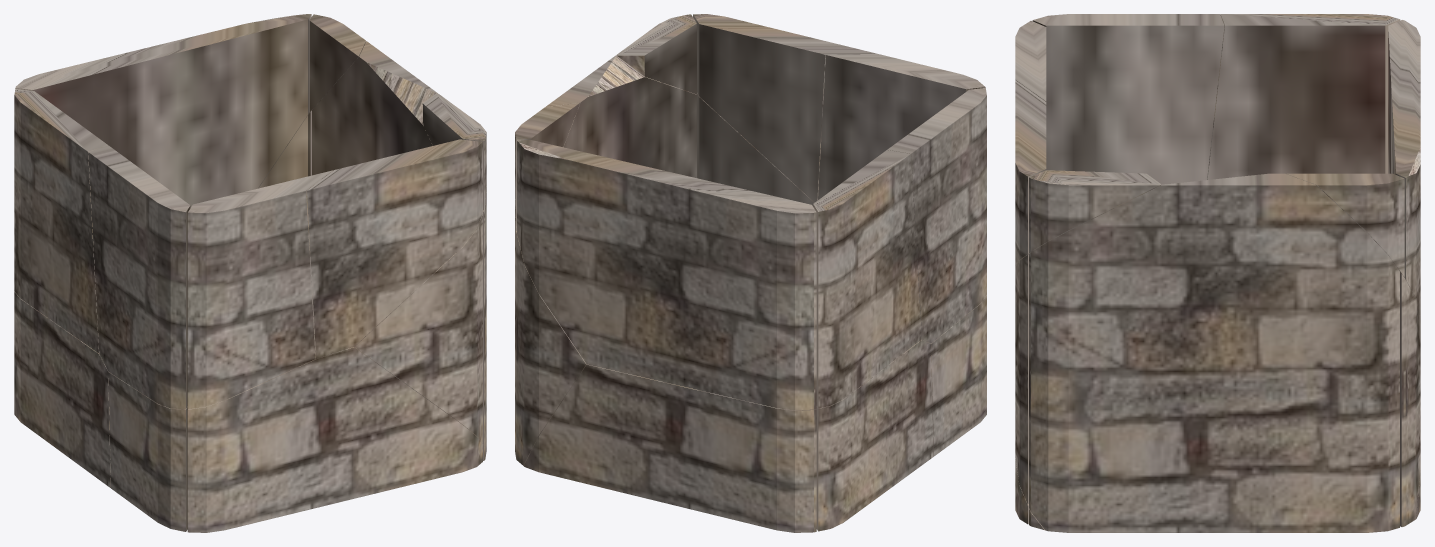
File: Column_F1-rigid.gltf
3 views of the same model, side by side, from view 1: azimuth 30°, elevation 25°; view 2: azimuth 150°, elevation 25°; view 3: azimuth 270°, elevation 25° (orthographic). The views are drawn at different scales.
Parts seen in each view (by area): view 1: Column_F24.004, Column_F24.008, Column_F24.007, Column_F24.002, Column_F24.010, Column_F24.009, Column_F24.013, Column_F24.011, Column_F24.015, Column_F24.012, Column_F24.006, Column_F24.014 (+1 smaller); view 2: Column_F24.008, Column_F24.003, Column_F24.009, Column_F24.007, Column_F24.010, Column_F24.011, Column_F24.002, Column_F24.015, Column_F24.005, Column_F24.012, Column_F24.013, Column_F24.014 (+1 smaller); view 3: Column_F24.015, Column_F24.009, Column_F24.010, Column_F24.008, Column_F24.014, Column_F24.006, Column_F24.005, Column_F24.007, Column_F24.013, Column_F24.002.
Boxes of the visible parts, x1=… form: Column_F24.004: x1=187, y1=347, x2=482, y2=532; Column_F24.008: x1=15, y1=14, x2=311, y2=207; Column_F24.007: x1=307, y1=139, x2=482, y2=358; Column_F24.002: x1=187, y1=170, x2=332, y2=409; Column_F24.010: x1=88, y1=145, x2=190, y2=409; Column_F24.009: x1=14, y1=89, x2=107, y2=353; Column_F24.013: x1=354, y1=214, x2=482, y2=443; Column_F24.011: x1=14, y1=291, x2=110, y2=487; Column_F24.015: x1=312, y1=41, x2=486, y2=452; Column_F24.012: x1=108, y1=372, x2=187, y2=531; Column_F24.006: x1=309, y1=14, x2=365, y2=112; Column_F24.014: x1=422, y1=93, x2=486, y2=210; Column_F24.008: x1=517, y1=139, x2=816, y2=410; Column_F24.003: x1=524, y1=364, x2=816, y2=532; Column_F24.009: x1=813, y1=150, x2=921, y2=408; Column_F24.007: x1=693, y1=14, x2=880, y2=202; Column_F24.010: x1=887, y1=88, x2=986, y2=343; Column_F24.011: x1=816, y1=339, x2=933, y2=531; Column_F24.002: x1=818, y1=54, x2=985, y2=199; Column_F24.015: x1=515, y1=55, x2=696, y2=456; Column_F24.005: x1=516, y1=227, x2=586, y2=465; Column_F24.012: x1=930, y1=295, x2=986, y2=456; Column_F24.013: x1=697, y1=93, x2=814, y2=206; Column_F24.014: x1=616, y1=14, x2=696, y2=94; Column_F24.015: x1=1029, y1=173, x2=1399, y2=532; Column_F24.009: x1=1207, y1=14, x2=1400, y2=179; Column_F24.010: x1=1032, y1=14, x2=1224, y2=184; Column_F24.008: x1=1388, y1=20, x2=1420, y2=316; Column_F24.014: x1=1029, y1=170, x2=1161, y2=252; Column_F24.006: x1=1286, y1=173, x2=1404, y2=276; Column_F24.005: x1=1400, y1=273, x2=1420, y2=526; Column_F24.007: x1=1015, y1=80, x2=1046, y2=265; Column_F24.013: x1=1015, y1=254, x2=1028, y2=504; Column_F24.002: x1=1015, y1=21, x2=1046, y2=101.
Bounding box in the file's own units: 2 × 1.9 × 2.
Materials: 1 (1 with a texture image).
